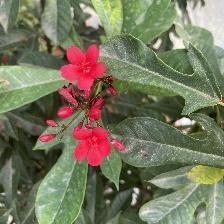jatropha: (61, 45, 108, 94), (73, 125, 114, 167)
